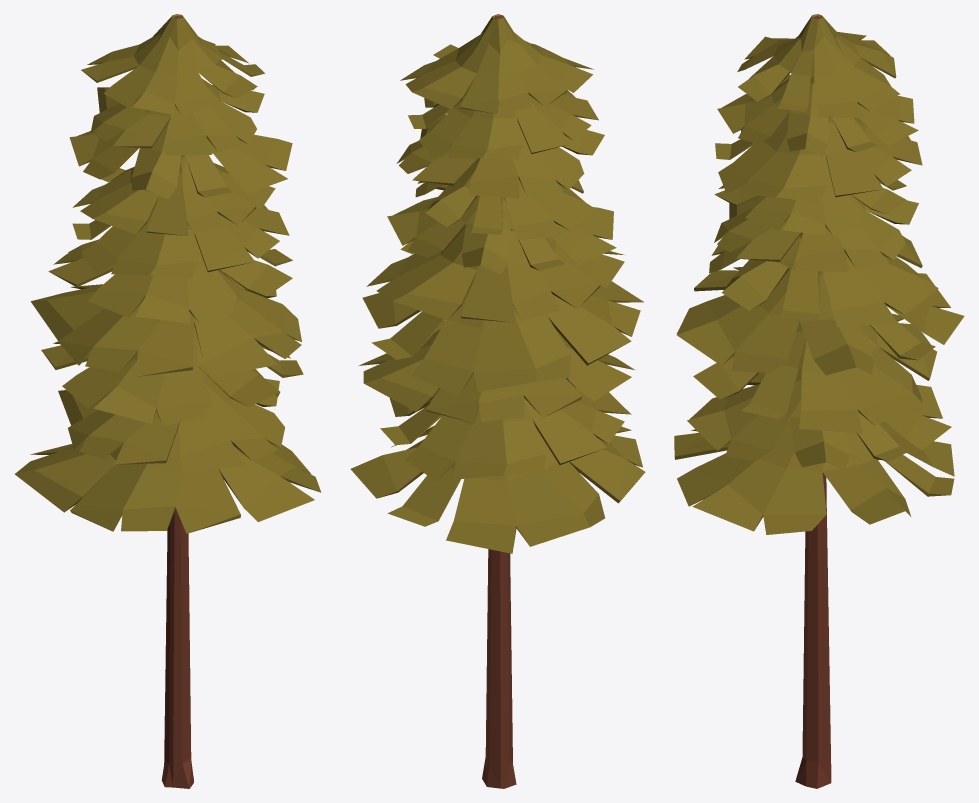
Rendered from pine_healthy_LOD1.fbx.
3 views of the same model, side by side, from view 1: azimuth 30°, elevation 25°; view 2: azimuth 150°, elevation 25°; view 3: azimuth 270°, elevation 25° (orthographic).
Parts seen in each view (by area): view 1: Circle.019, Circle.016, Circle.018, Circle.010, Circle.017, Circle.015, Circle.014, Circle.012, Circle.013, Circle.011, pine_trunk.001; view 2: Circle.019, Circle.016, Circle.018, Circle.015, Circle.010, Circle.017, Circle.011, Circle.014, Circle.012, pine_trunk.001, Circle.013; view 3: Circle.019, Circle.016, Circle.017, Circle.010, Circle.015, Circle.012, Circle.018, Circle.014, pine_trunk.001, Circle.011, Circle.013.
Boxes of the visible parts, box(x1,y1,x2,y2) form: Circle.019: box(15, 423, 321, 533); Circle.016: box(30, 269, 301, 376); Circle.018: box(58, 366, 284, 470); Circle.010: box(81, 14, 264, 115); Circle.017: box(41, 325, 303, 425); Circle.015: box(48, 235, 292, 323); Circle.014: box(72, 205, 289, 278); Circle.012: box(69, 120, 292, 199); Circle.013: box(72, 156, 275, 236); Circle.011: box(90, 78, 264, 155); pine_trunk.001: box(161, 16, 193, 788); Circle.019: box(350, 425, 645, 553); Circle.016: box(362, 281, 643, 395); Circle.018: box(380, 381, 631, 481); Circle.015: box(366, 223, 625, 322); Circle.010: box(400, 14, 593, 113); Circle.017: box(358, 320, 635, 423); Circle.011: box(408, 88, 598, 159); Circle.014: box(387, 184, 616, 274); Circle.012: box(396, 114, 604, 198); pine_trunk.001: box(482, 16, 516, 788); Circle.013: box(415, 158, 596, 239); Circle.019: box(674, 418, 954, 534); Circle.016: box(676, 267, 964, 375); Circle.017: box(693, 313, 936, 433); Circle.010: box(737, 14, 899, 117); Circle.015: box(709, 232, 938, 326); Circle.012: box(715, 113, 922, 202); Circle.018: box(687, 370, 951, 470); Circle.014: box(714, 194, 918, 271); pine_trunk.001: box(795, 16, 831, 788); Circle.011: box(717, 74, 918, 156); Circle.013: box(714, 158, 906, 235).
Size of the model in its own units: 962 by 2876 by 990.
